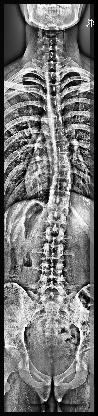Vertebrae: (39, 264, 68, 280), (39, 226, 70, 240), (39, 244, 69, 258), (46, 194, 72, 210), (42, 211, 72, 223), (49, 182, 74, 192), (50, 168, 70, 180), (46, 120, 68, 130), (46, 108, 66, 118), (50, 144, 70, 154), (51, 156, 71, 166), (43, 61, 63, 71), (46, 96, 64, 106), (48, 132, 68, 140), (46, 84, 64, 92), (44, 72, 62, 80)
